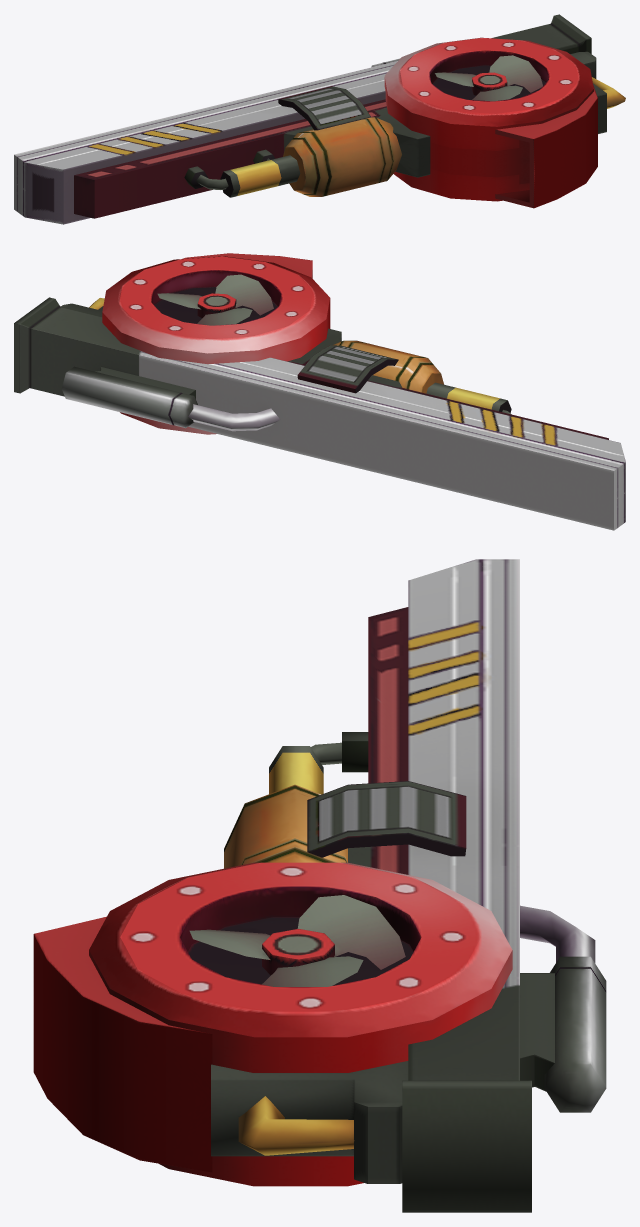
Rendered from weapon_tornado.FBX.
3 views of the same model, one above another, from view 1: azimuth 30°, elevation 25°; view 2: azimuth 150°, elevation 25°; view 3: azimuth 270°, elevation 25° (orthographic). The views are drawn at different scales.
Visible parts, largest first — view 1: weapon_tornado, weapon_tornado02; view 2: weapon_tornado, weapon_tornado02; view 3: weapon_tornado, weapon_tornado02.
Part boxes in pixels (box(x1,y1,x2,y2)): weapon_tornado: box(14, 14, 625, 224); weapon_tornado02: box(435, 55, 542, 101); weapon_tornado: box(14, 253, 625, 530); weapon_tornado02: box(157, 274, 273, 325); weapon_tornado: box(33, 559, 606, 1212); weapon_tornado02: box(189, 895, 405, 986).
Bounding box in the file's own units: 210 × 33.19 × 94.82.
